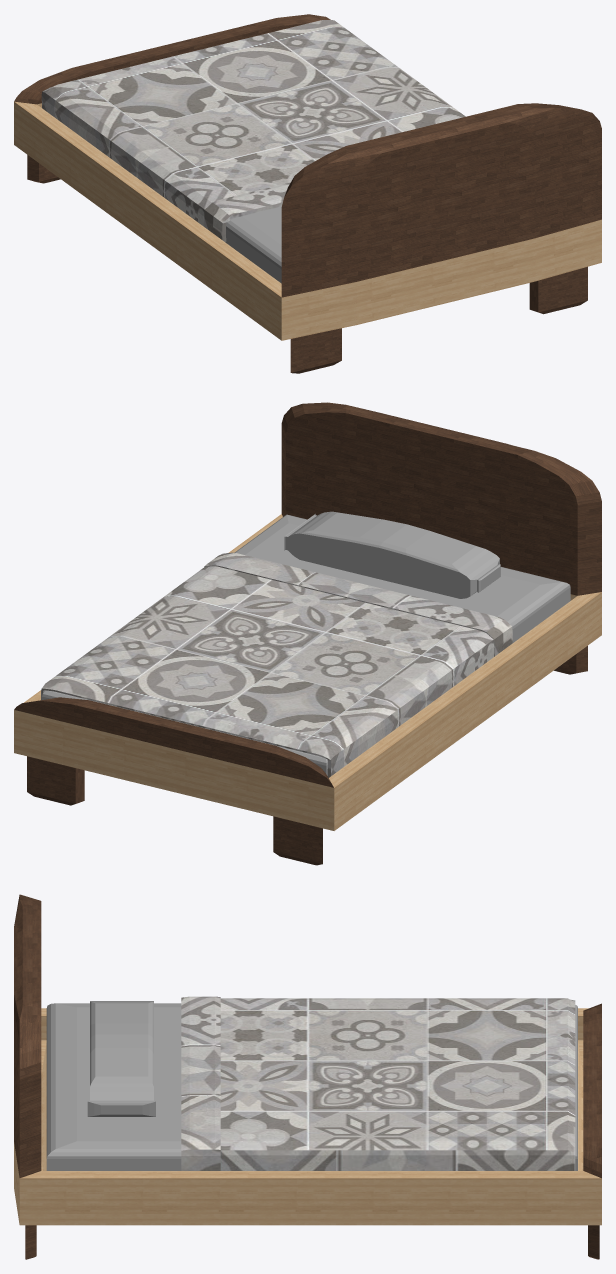
The model's file is cama_hecha.fbx.
The picture shows the model from 3 angles, top to bottom: view 1: azimuth 30°, elevation 25°; view 2: azimuth 150°, elevation 25°; view 3: azimuth 270°, elevation 25°; orthographic projection. The views are drawn at different scales.
Parts seen in each view (by area): view 1: bed1:Mesh; view 2: bed1:Mesh; view 3: bed1:Mesh.
Boxes of the visible parts, box(x1,y1,x2,y2) form: bed1:Mesh: box(14, 14, 601, 373); bed1:Mesh: box(14, 402, 601, 865); bed1:Mesh: box(14, 894, 601, 1259).
Bounding box in the file's own units: 5.45 × 3.41 × 7.97.
Materials: 4 (3 with a texture image).
